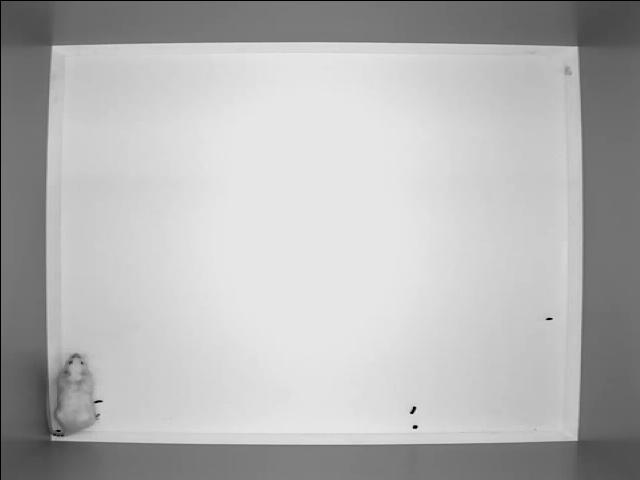Tikus: (45, 346, 108, 442)
